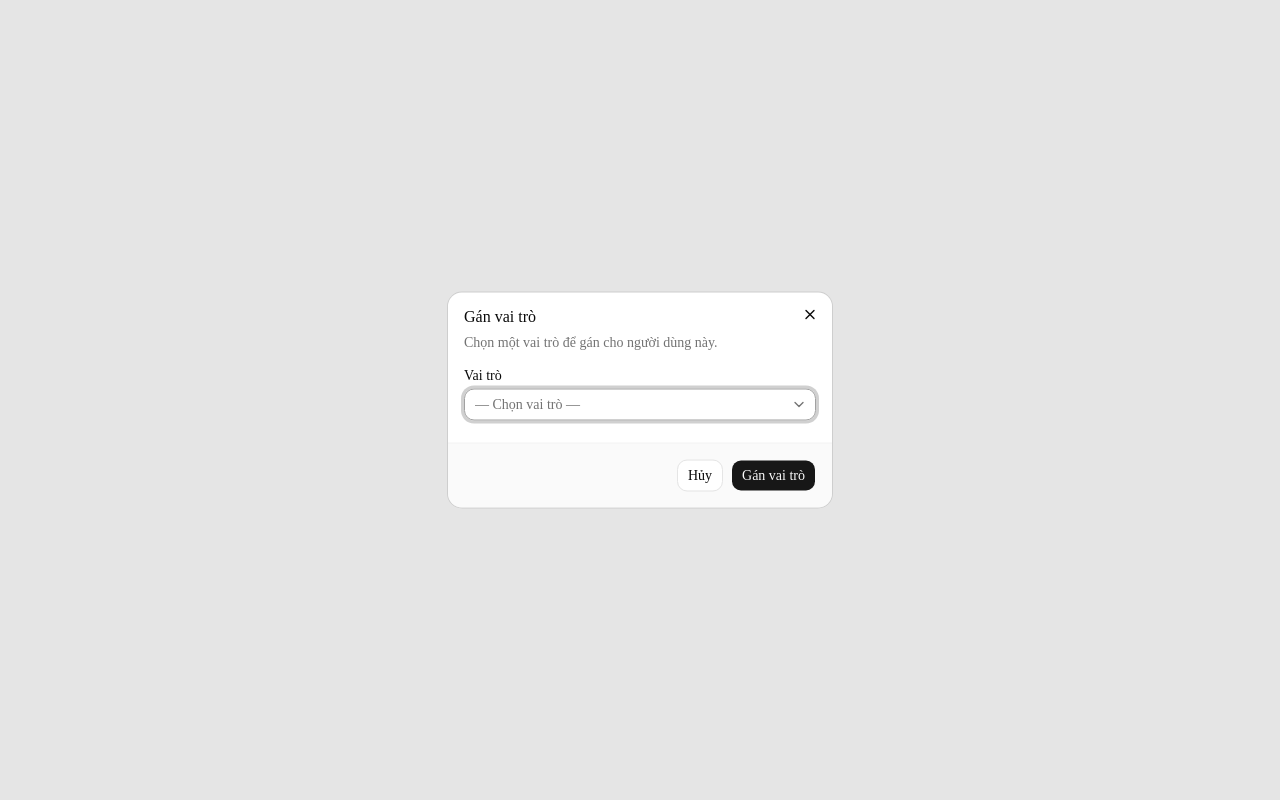
Test: AssignRoleDialog (T052.03C §9) › shows "no roles to assign" when availableRoles is empty (every role already held)
What coordinates should you click on to do the following:
click the dropdown
I would click on:
 (528, 404)
Its box is x1=464 y1=388 x2=816 y2=420.
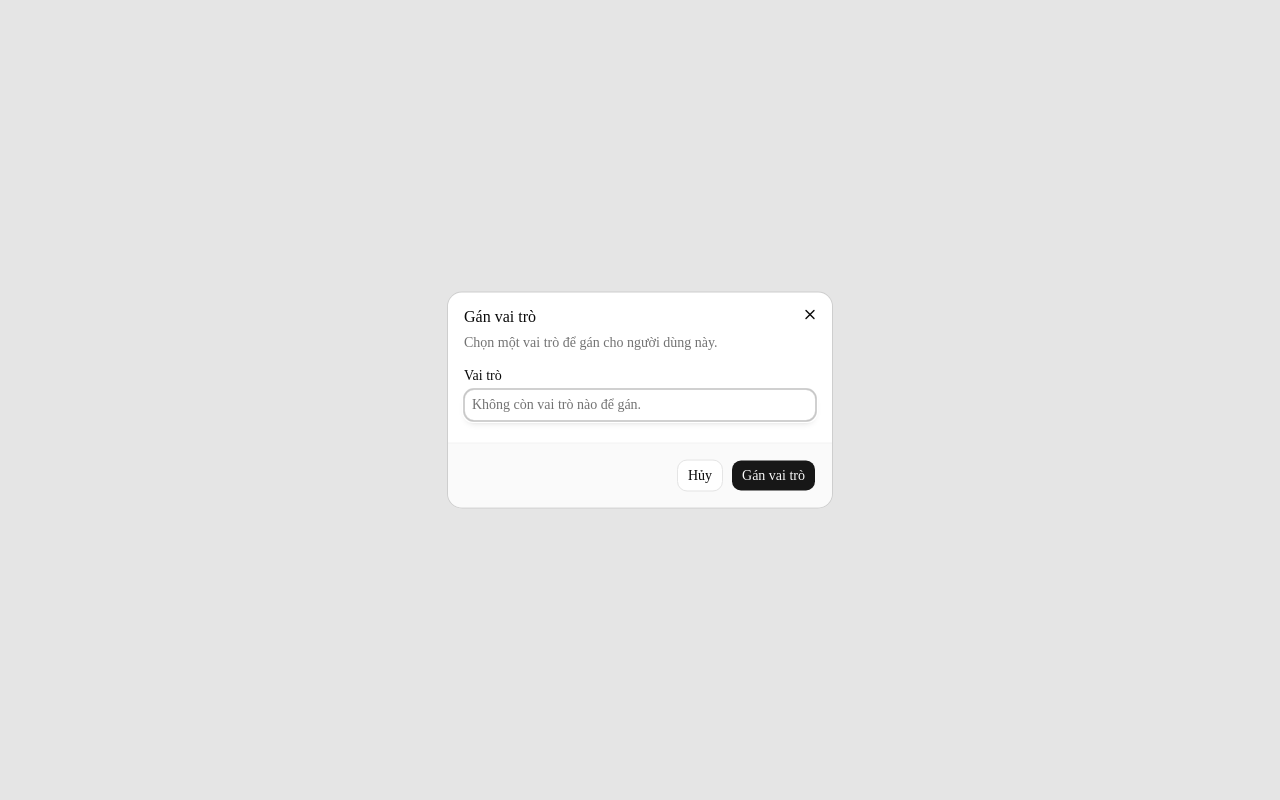
Expected: the text "Không còn vai trò nào để gán." is shown, x1=472 y1=396 x2=641 y2=412
